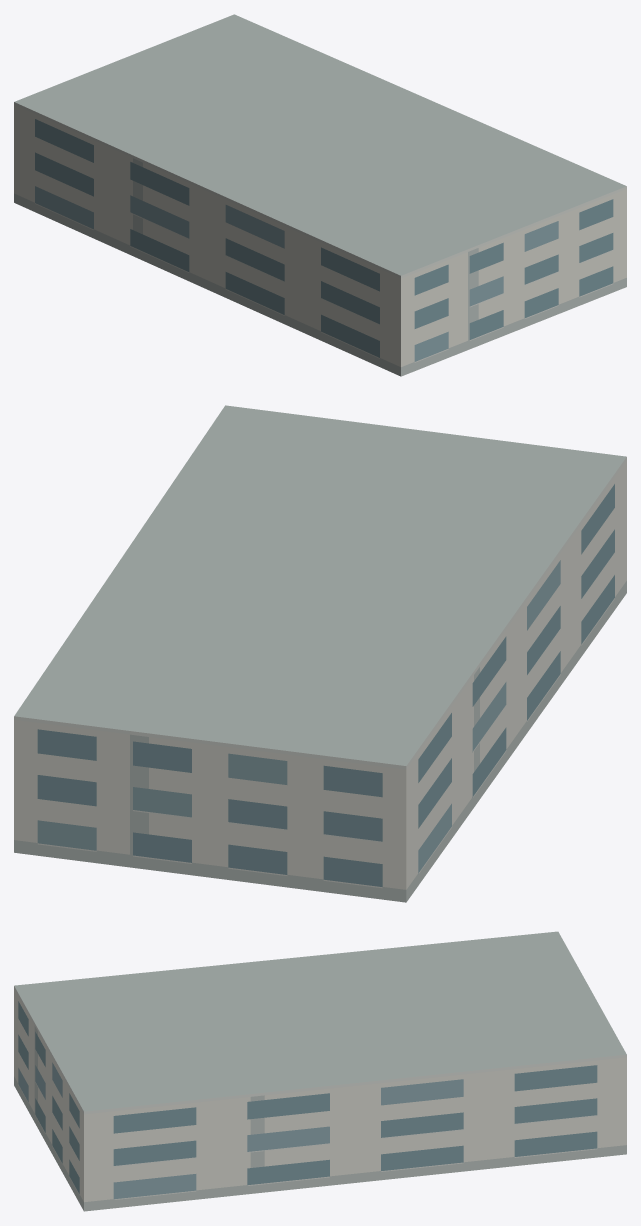
The model's file is survey-upis-32715532.glb.
3 views of the same model, one above another, from view 1: azimuth 30°, elevation 25°; view 2: azimuth 150°, elevation 25°; view 3: azimuth 270°, elevation 25° (orthographic). The views are drawn at different scales.
Parts seen in each view (by area): view 1: survey-upis-32715532.tmp; view 2: survey-upis-32715532.tmp; view 3: survey-upis-32715532.tmp.
Boxes of the visible parts, x1,y1,x2,y2 form: survey-upis-32715532.tmp: (14, 14, 626, 376); survey-upis-32715532.tmp: (14, 405, 626, 902); survey-upis-32715532.tmp: (14, 931, 626, 1211).
Bounding box in the file's own units: 35.48 × 9.15 × 50.97.
